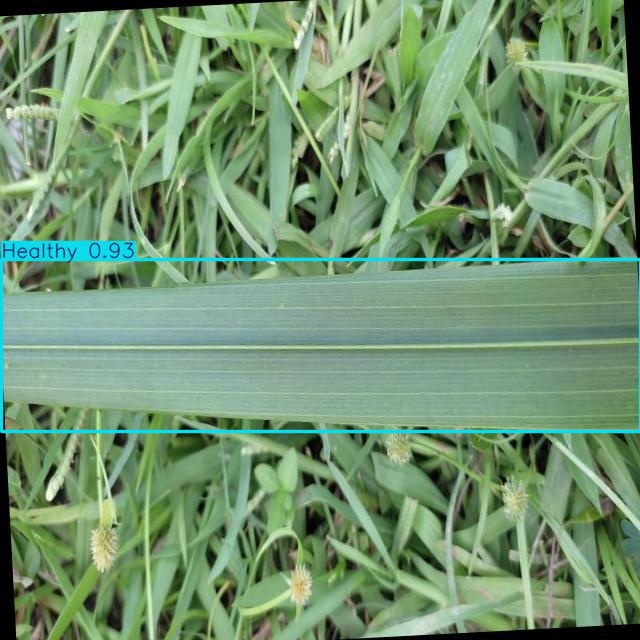Healthy: (1, 260, 640, 431)
